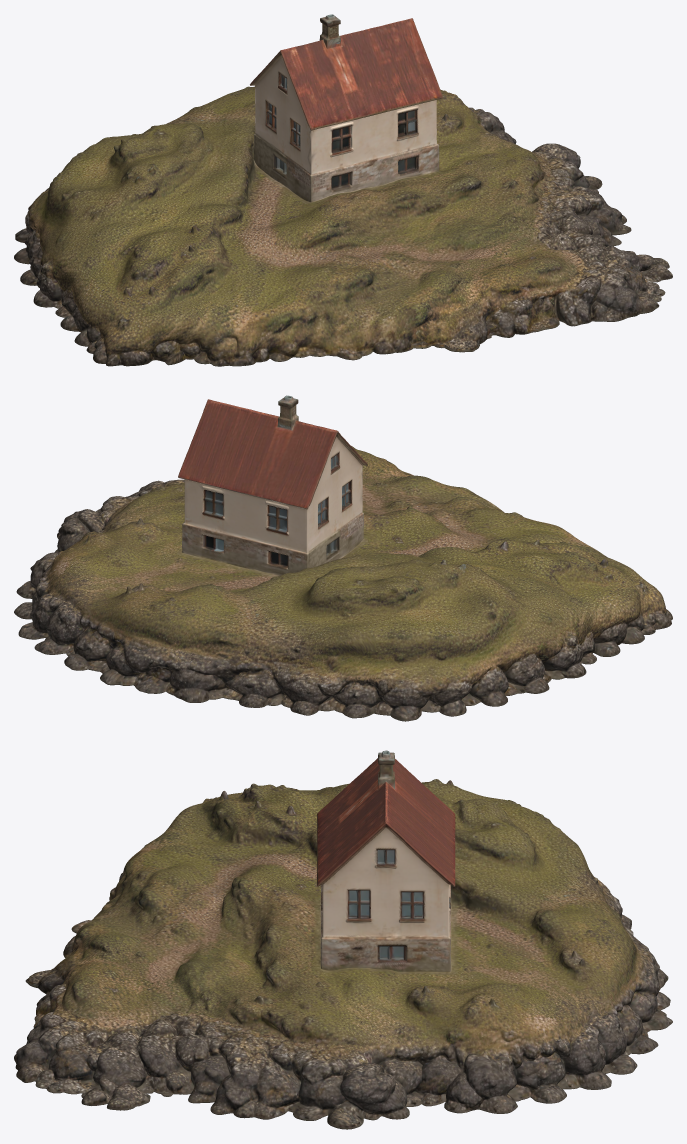
Rendered from coastal-house-memory.glb.
3 views of the same model, one above another, from view 1: azimuth 30°, elevation 25°; view 2: azimuth 150°, elevation 25°; view 3: azimuth 270°, elevation 25° (orthographic). The views are drawn at different scales.
Visible parts, largest first — view 1: tripo_node_0ed17078-46f0-4cbb-bb97-107d2b2f94b1; view 2: tripo_node_0ed17078-46f0-4cbb-bb97-107d2b2f94b1; view 3: tripo_node_0ed17078-46f0-4cbb-bb97-107d2b2f94b1.
Boxes of the visible parts, x1,y1,x2,y2 form: tripo_node_0ed17078-46f0-4cbb-bb97-107d2b2f94b1: (14,14,672,366); tripo_node_0ed17078-46f0-4cbb-bb97-107d2b2f94b1: (14,395,672,721); tripo_node_0ed17078-46f0-4cbb-bb97-107d2b2f94b1: (14,750,672,1129).
Size of the model in its own units: 1.31 by 0.4738 by 1.18.
1 material, 1 textured.
